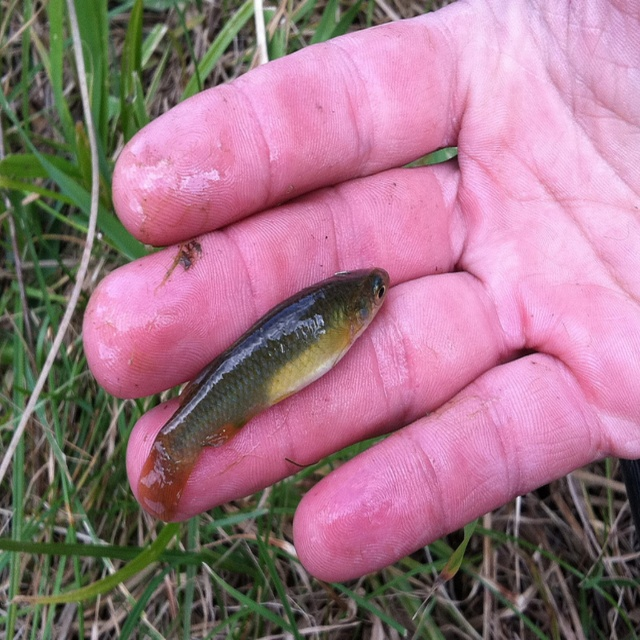Fish: (137, 267, 390, 522)
